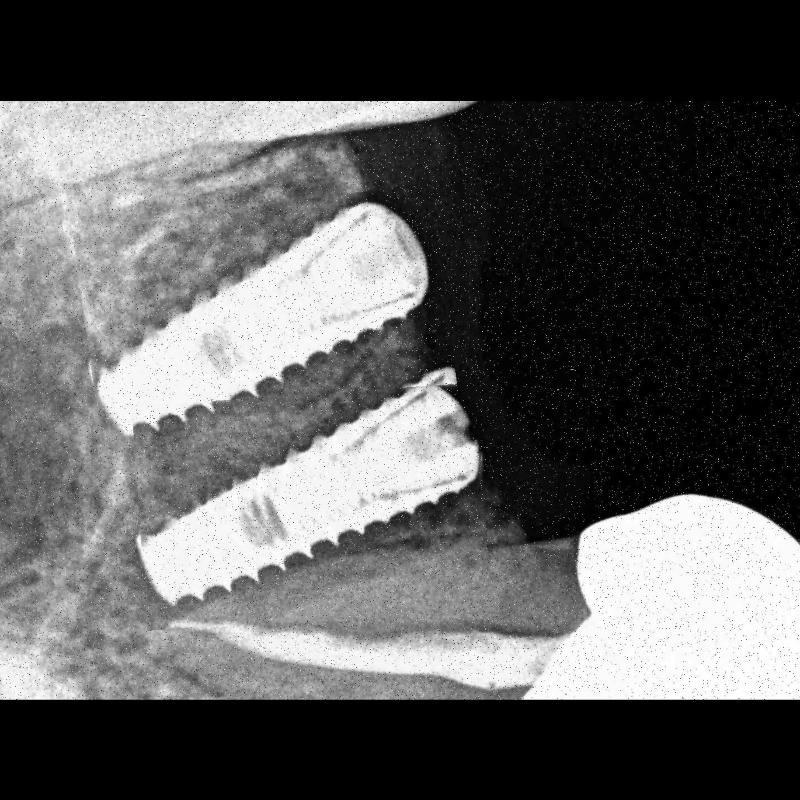Dentium: (80, 194, 453, 436), (136, 389, 488, 625)
